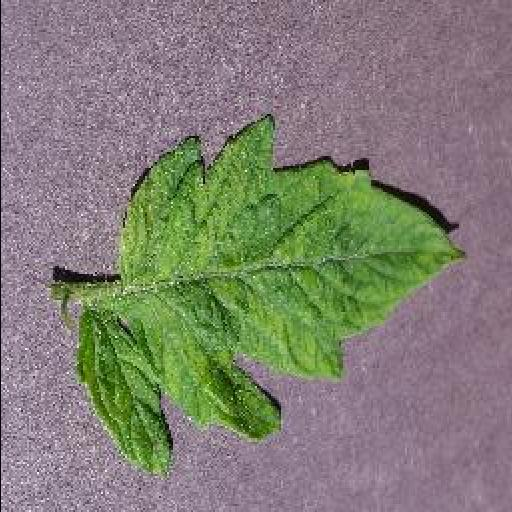disease_tomato: (75, 112, 465, 472)
